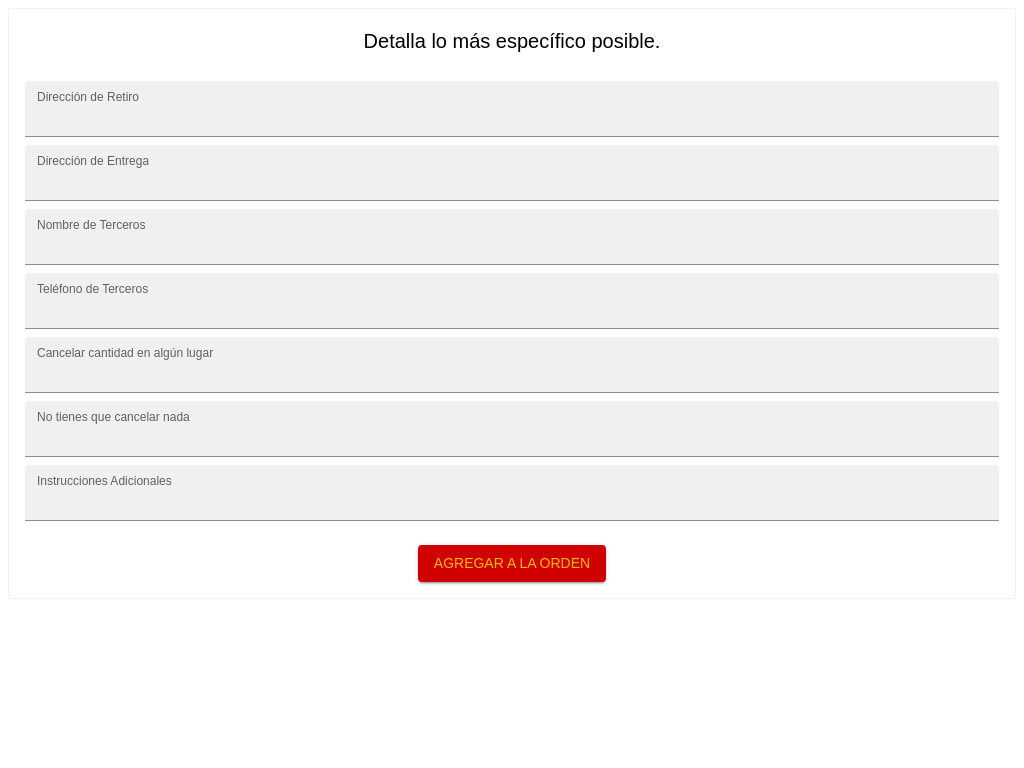
presentation:components:organisms:little-errands-form:control › It should not submit the form if the [withdrawalAddress] field is empty
Type "32.8951,-80.0364" into the field labelled "Dirección de Entrega" at coordinates (512, 173), box [25,145,999,201]
Type "Proveedor Tercero" into the field labelled "Nombre de Terceros" at coordinates (512, 237), box [25,209,999,265]
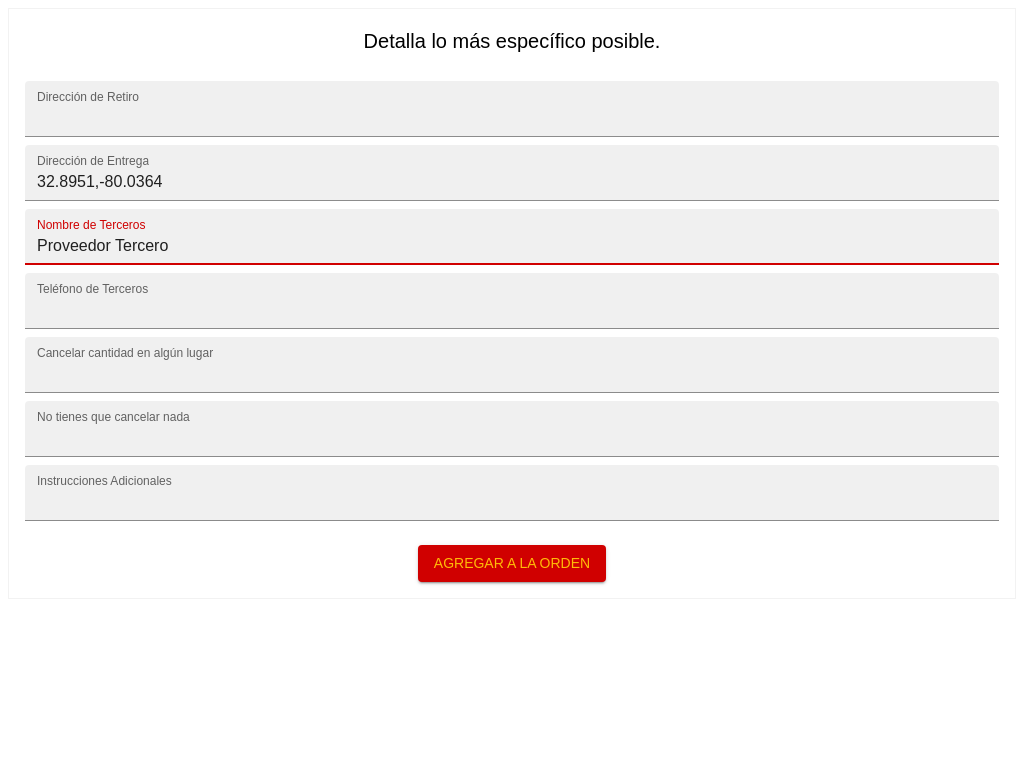
Type "53565223" into the field labelled "Teléfono de Terceros" at coordinates (512, 301), box [25,273,999,329]
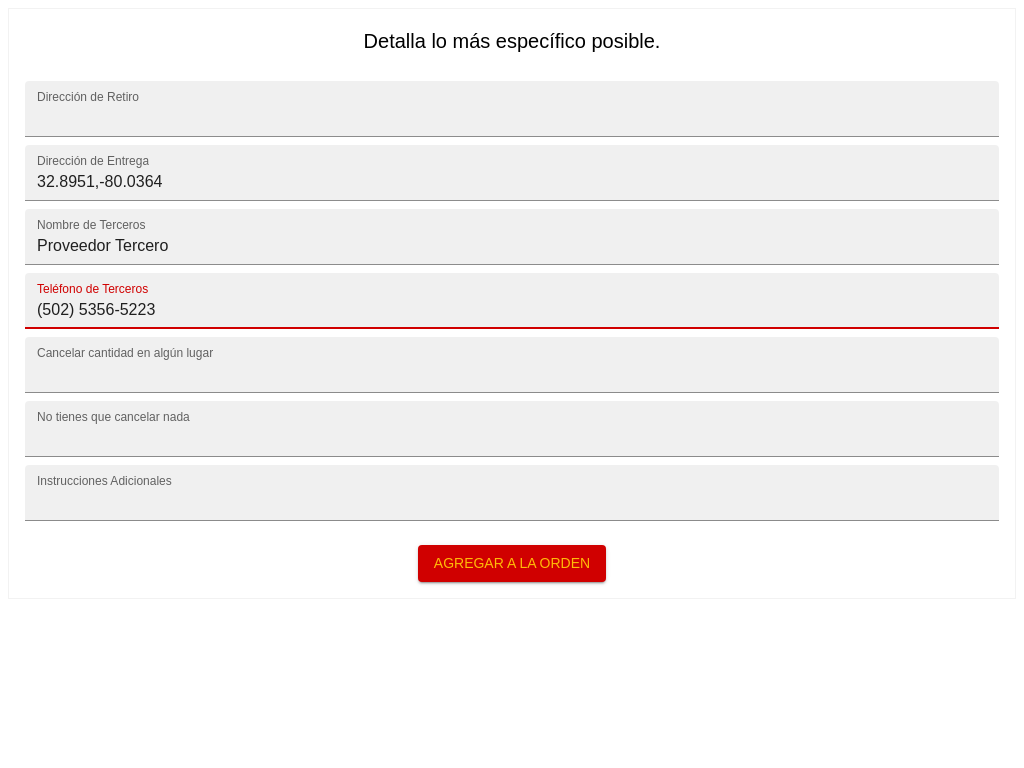
Type "100.00" into the field labelled "Cancelar cantidad en algún lugar" at coordinates (512, 365), box [25,337,999,393]
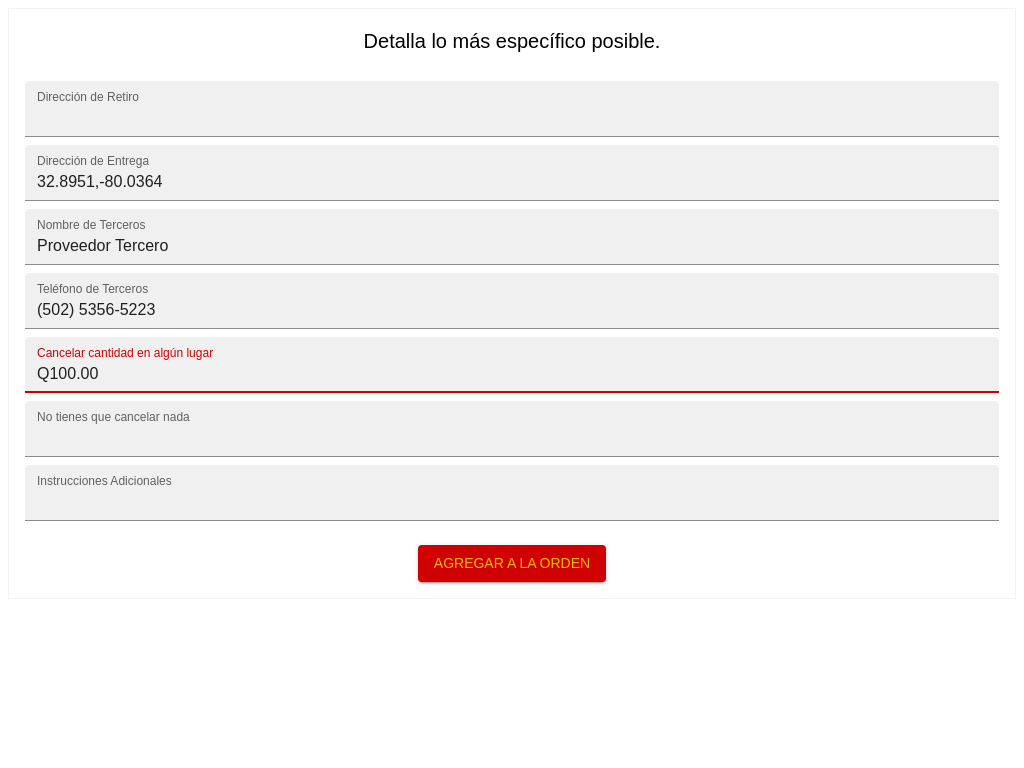
Type "NO" into the field labelled "No tienes que cancelar nada" at coordinates (512, 429), box [25,401,999,457]
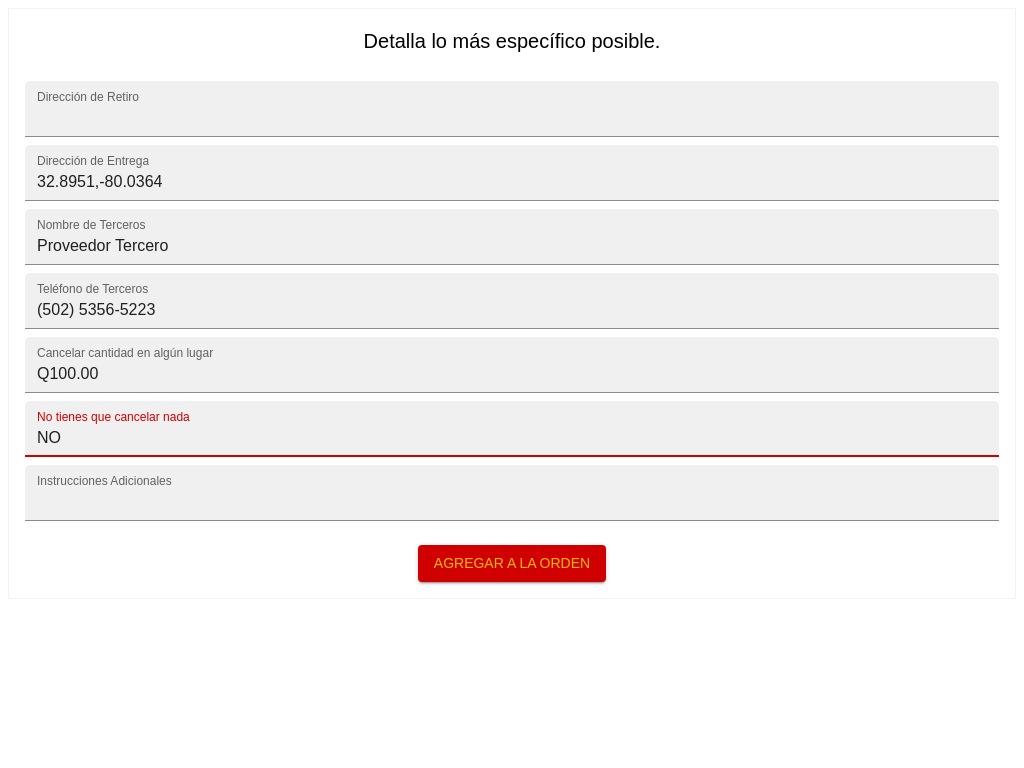
Type "Favor pedir factura 4123123-4" into the field labelled "Instrucciones Adicionales" at coordinates (512, 493), box [25,465,999,521]
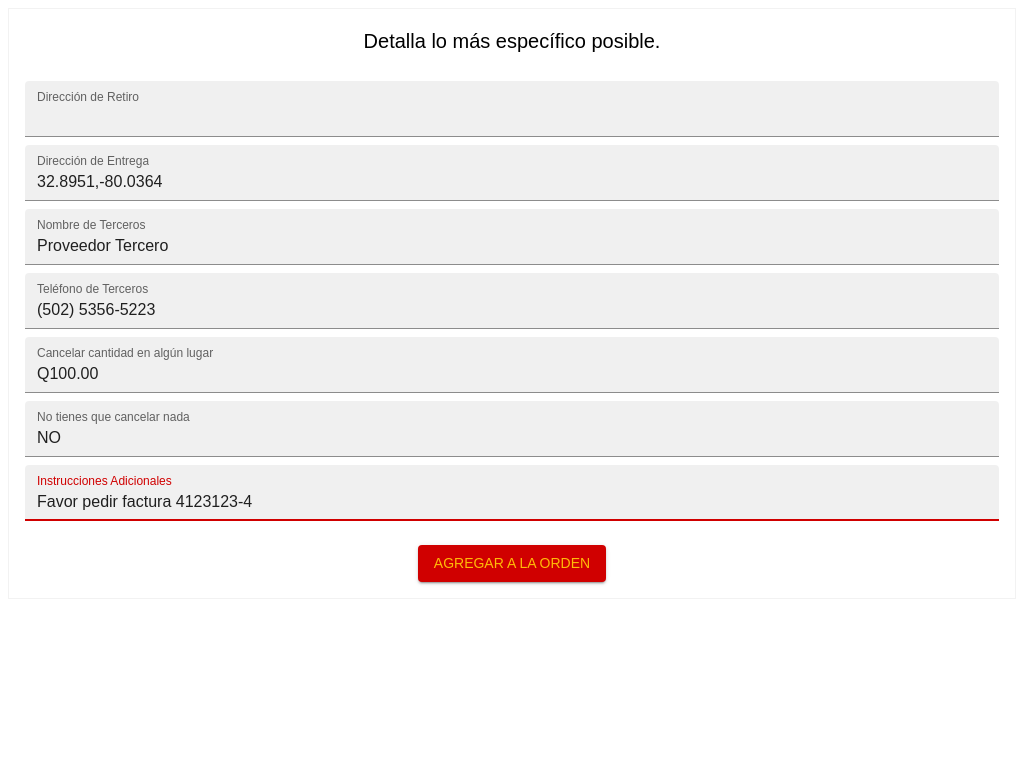
Click the button "Agregar a la Orden" at coordinates (512, 563), box [418,545,606,582]
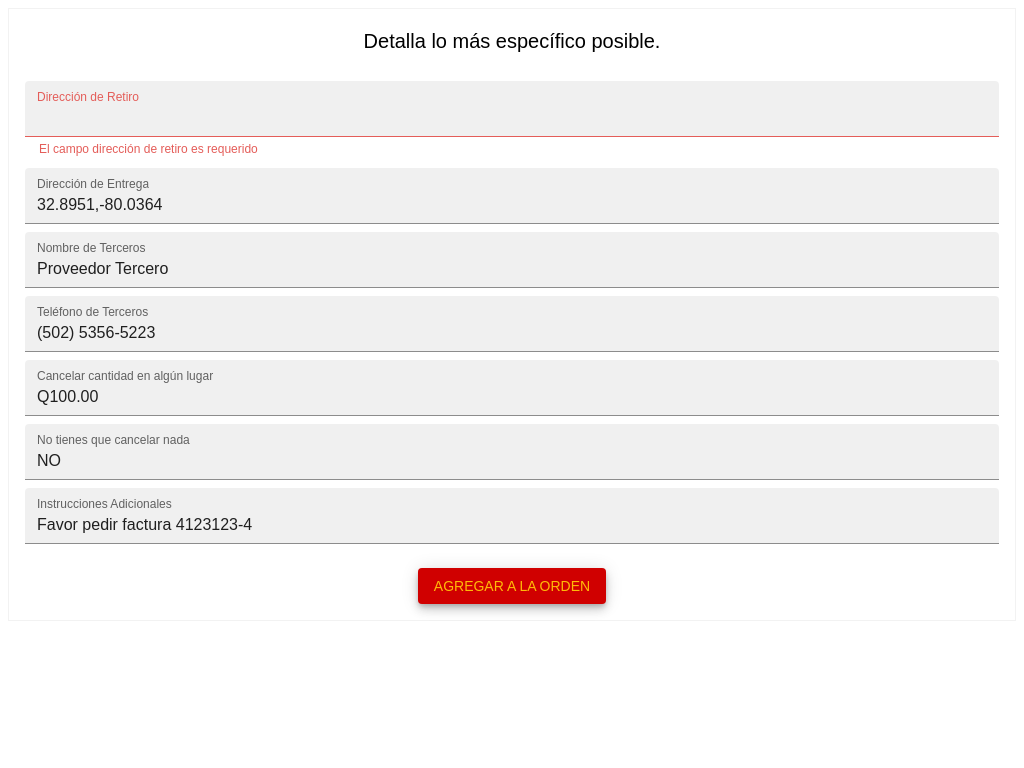
Result: the text "El campo dirección de retiro es requerido" is shown at [39,142,258,156]
